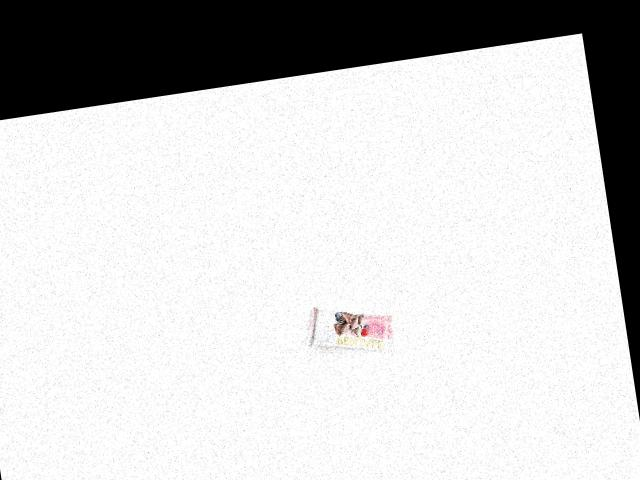chocolate: (305, 294, 397, 366)
